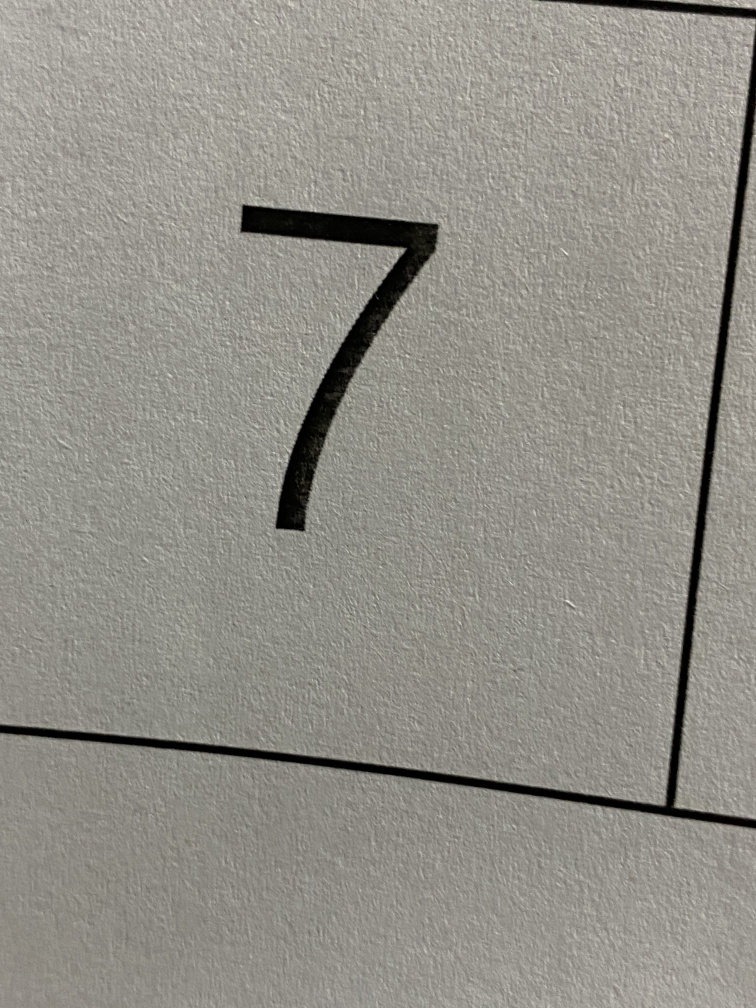seven: (178, 132, 494, 598)
